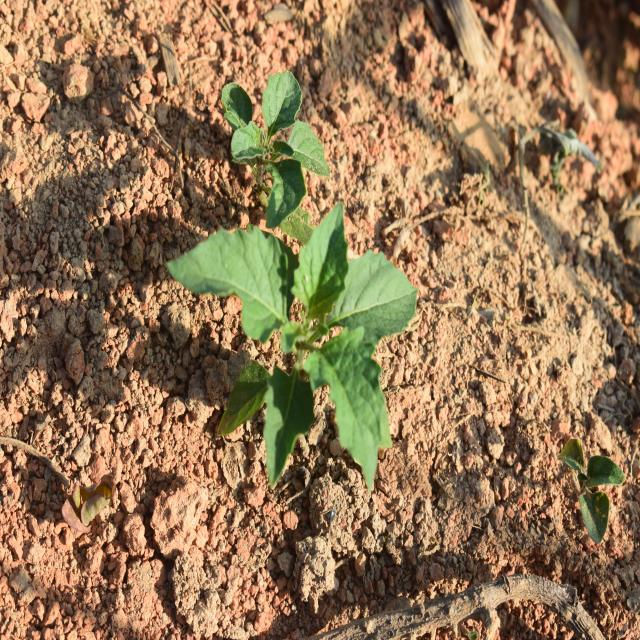Black_nightshade: (178, 208, 420, 502), (197, 51, 351, 211)
